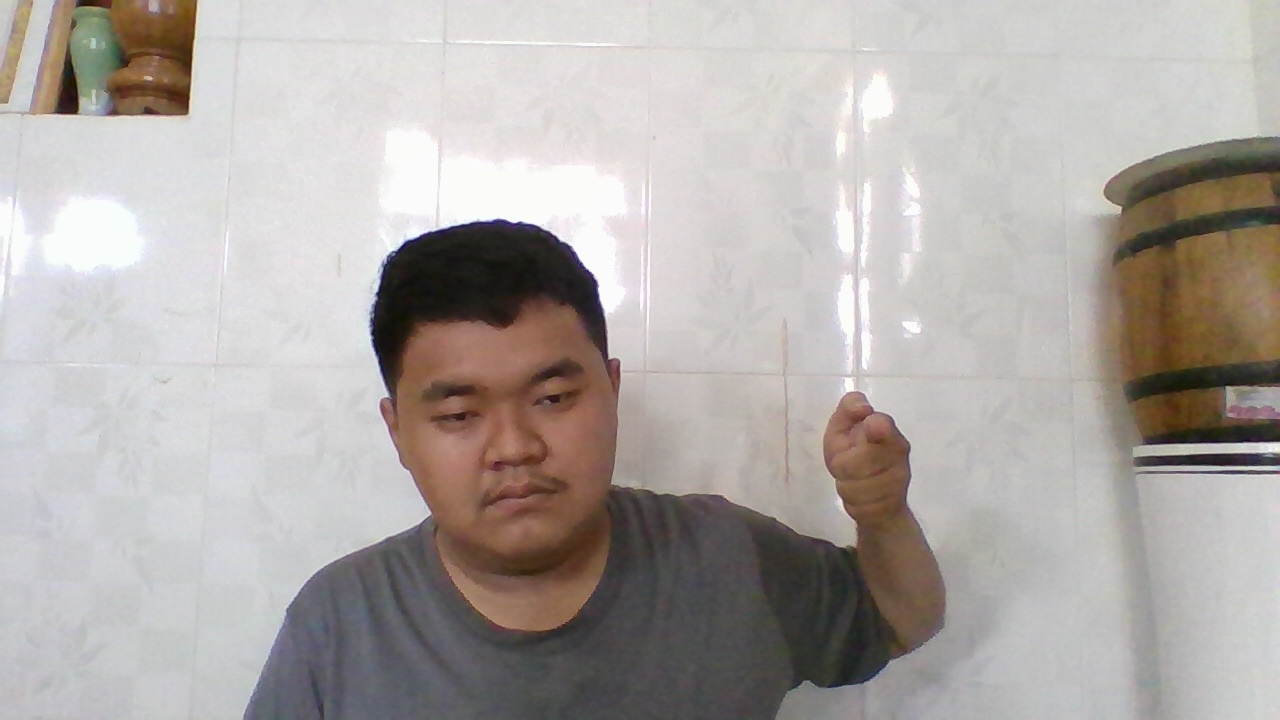G: (820, 386, 918, 526)
